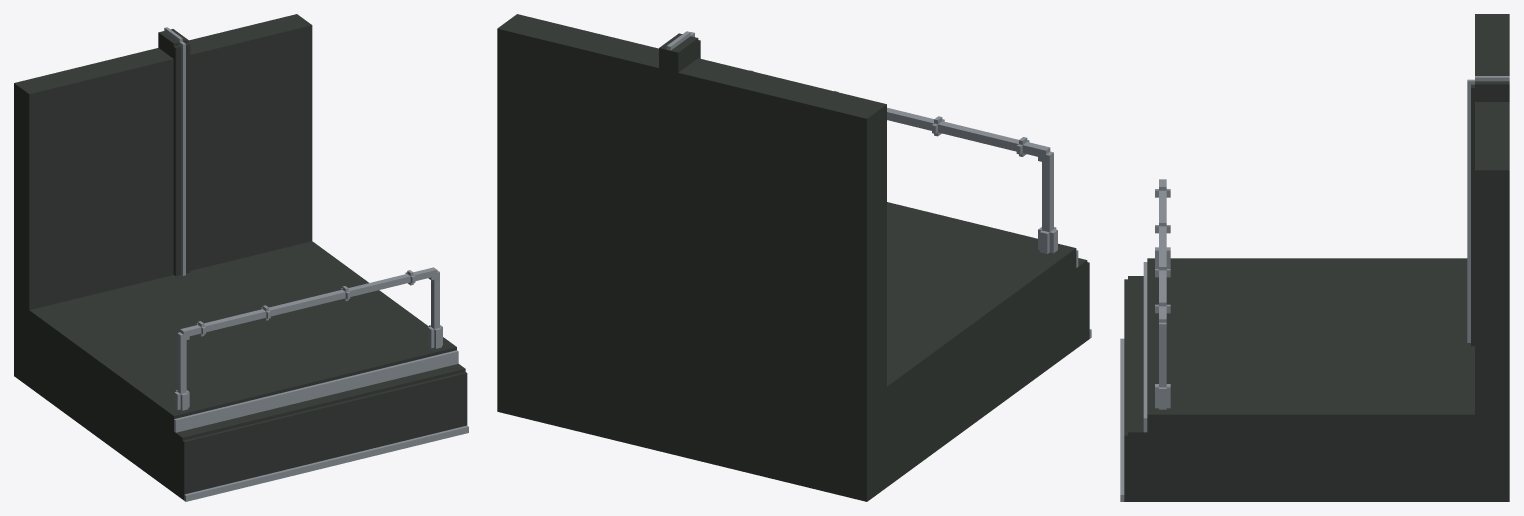
File: FillerSpace.obj
3 views of the same model, side by side, from view 1: azimuth 30°, elevation 25°; view 2: azimuth 150°, elevation 25°; view 3: azimuth 270°, elevation 25° (orthographic). The views are drawn at different scales.
Bounding box in the file's own units: 96 × 101 × 101.
